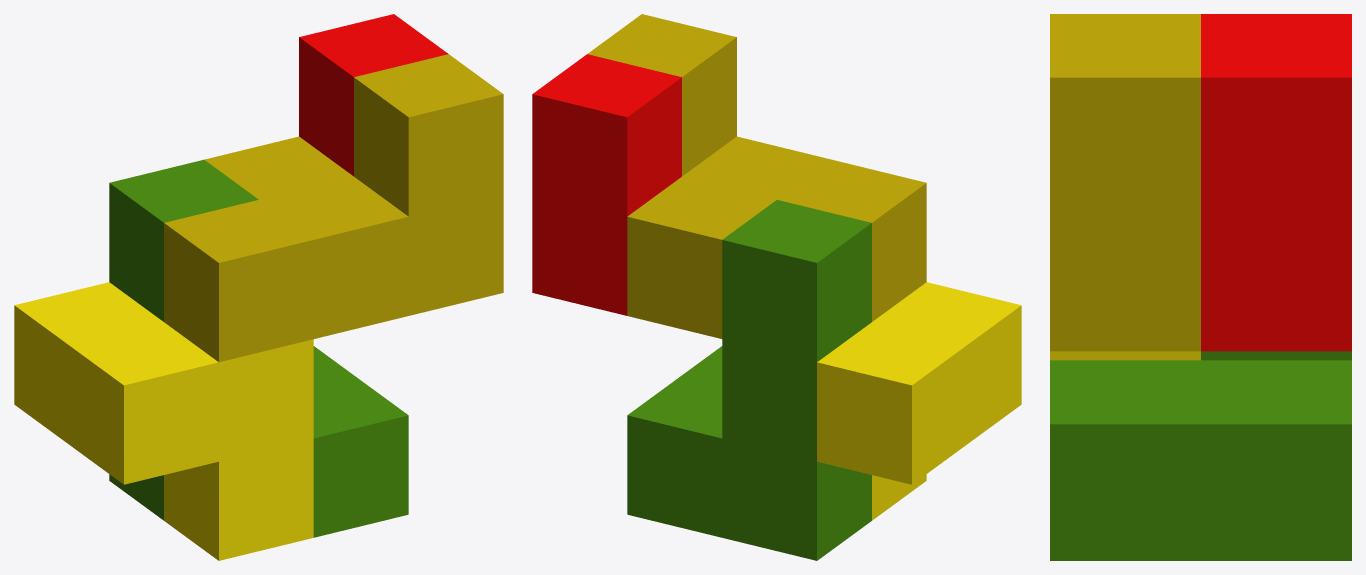
3 views of the same model, side by side, from view 1: azimuth 30°, elevation 25°; view 2: azimuth 150°, elevation 25°; view 3: azimuth 270°, elevation 25° (orthographic). The views are drawn at different scales.
Parts seen in each view (by area): view 1: mergedBlocks(Clone); view 2: mergedBlocks(Clone); view 3: mergedBlocks(Clone).
Part boxes in pixels (x1,y1,x2,y2): mergedBlocks(Clone): (14,14,503,560); mergedBlocks(Clone): (532,14,1021,560); mergedBlocks(Clone): (1050,14,1351,560).
Bounding box in the file's own units: 4 × 4 × 2.
4 materials, 4 textured.
